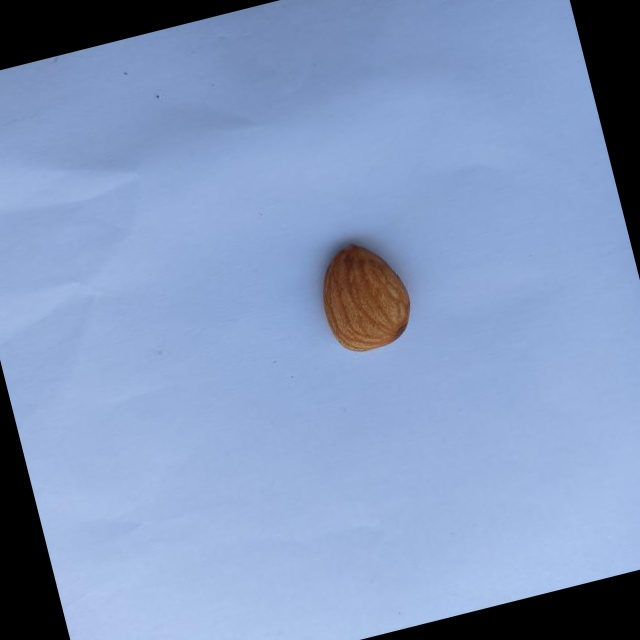grade1: (299, 225, 427, 368)
